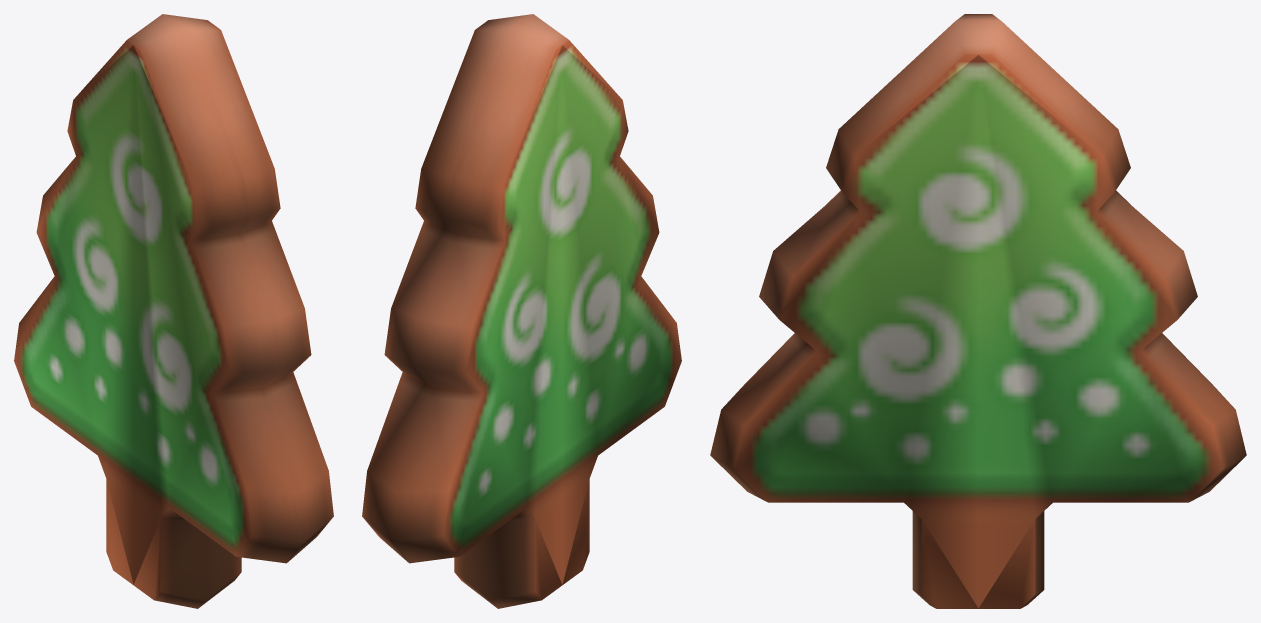
File: scenes_candy_tools05.FBX
3 views of the same model, side by side, from view 1: azimuth 30°, elevation 25°; view 2: azimuth 150°, elevation 25°; view 3: azimuth 270°, elevation 25° (orthographic). The views are drawn at different scales.
Visible parts, largest first — view 1: scenes_candy_tools05; view 2: scenes_candy_tools05; view 3: scenes_candy_tools05.
Part boxes in pixels (x1,y1,x2,y2): scenes_candy_tools05: (14, 14, 333, 608); scenes_candy_tools05: (362, 14, 681, 608); scenes_candy_tools05: (710, 14, 1246, 608).
Bounding box in the file's own units: 15.45 × 104 × 86.58.
